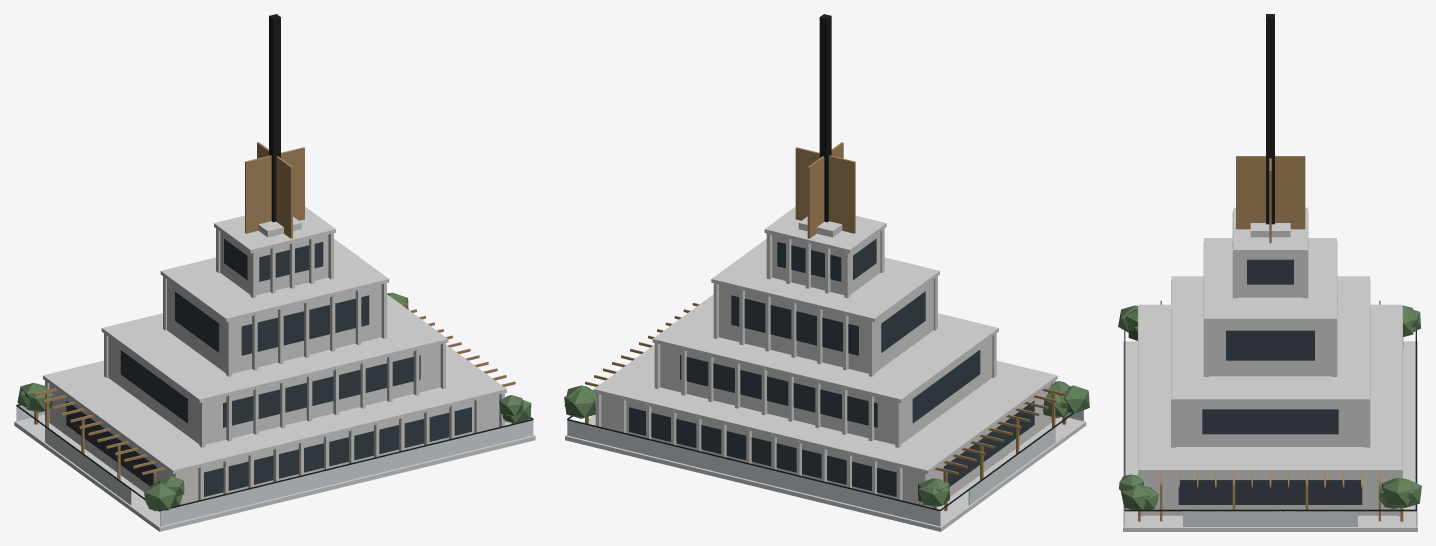
Rendered from corona.glb.
The picture shows the model from 3 angles, left to right: view 1: azimuth 30°, elevation 25°; view 2: azimuth 150°, elevation 25°; view 3: azimuth 270°, elevation 25°; orthographic projection.
Parts seen in each view (by area): view 1: corona_conc, corona_glass, corona_rail, corona_wood, corona_frame, corona_green; view 2: corona_conc, corona_glass, corona_rail, corona_wood, corona_frame, corona_green; view 3: corona_conc, corona_glass, corona_wood, corona_frame, corona_green, corona_rail.
Boxes of the visible parts, left/top/right/bottom form: corona_conc: left=14, top=206, right=535, bottom=531; corona_glass: left=66, top=238, right=471, bottom=496; corona_rail: left=16, top=405, right=533, bottom=526; corona_wood: left=34, top=142, right=515, bottom=511; corona_frame: left=16, top=14, right=533, bottom=511; corona_green: left=17, top=292, right=531, bottom=511; corona_conc: left=565, top=207, right=1086, bottom=531; corona_glass: left=629, top=238, right=1034, bottom=496; corona_rail: left=567, top=410, right=1083, bottom=526; corona_wood: left=585, top=142, right=1066, bottom=511; corona_frame: left=567, top=14, right=1073, bottom=510; corona_green: left=564, top=381, right=1089, bottom=507; corona_conc: left=1123, top=207, right=1417, bottom=531; corona_glass: left=1178, top=259, right=1362, bottom=504; corona_wood: left=1138, top=156, right=1403, bottom=521; corona_frame: left=1124, top=14, right=1416, bottom=511; corona_green: left=1118, top=305, right=1421, bottom=509; corona_rail: left=1124, top=511, right=1416, bottom=526.
Bounding box in the file's own units: 25.12 × 25.61 × 16.68.
